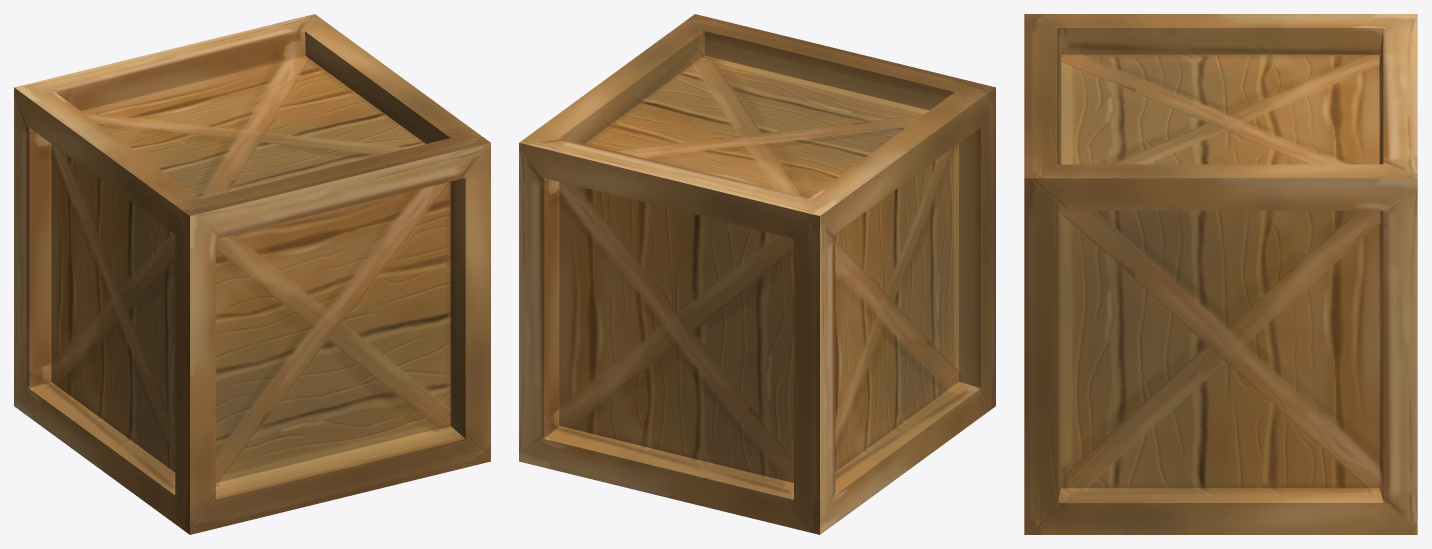
File: 61_ELM_Crate.fbx
The picture shows the model from 3 angles, left to right: view 1: azimuth 30°, elevation 25°; view 2: azimuth 150°, elevation 25°; view 3: azimuth 270°, elevation 25°; orthographic projection. The views are drawn at different scales.
Parts seen in each view (by area): view 1: Crate_part06, Crate_part02, Crate_part01, Crate_part03, Crate_part05, Crate_part08, Crate_part07; view 2: Crate_part06, Crate_part07, Crate_part02, Crate_part01, Crate_part05, Crate_part04, Crate_part08, Crate_part03; view 3: Crate_part01, Crate_part03, Crate_part06, Crate_part08.
Boxes of the visible parts, bbox=[...] form: Crate_part06: bbox=[14, 27, 383, 306]; Crate_part02: bbox=[14, 204, 343, 534]; Crate_part01: bbox=[260, 14, 490, 337]; Crate_part03: bbox=[309, 311, 490, 497]; Crate_part05: bbox=[14, 105, 294, 371]; Crate_part08: bbox=[283, 294, 396, 382]; Crate_part07: bbox=[14, 269, 71, 427]; Crate_part06: bbox=[574, 40, 995, 265]; Crate_part07: bbox=[624, 297, 849, 534]; Crate_part02: bbox=[800, 243, 995, 512]; Crate_part01: bbox=[519, 14, 801, 280]; Crate_part05: bbox=[694, 162, 995, 332]; Crate_part04: bbox=[530, 247, 712, 486]; Crate_part08: bbox=[519, 263, 610, 389]; Crate_part03: bbox=[519, 369, 573, 463]; Crate_part01: bbox=[1024, 120, 1417, 396]; Crate_part03: bbox=[1024, 351, 1417, 534]; Crate_part06: bbox=[1024, 14, 1417, 164]; Crate_part08: bbox=[1182, 319, 1417, 430].
Size of the model in its own units: 1.2 by 1.22 by 1.22.
